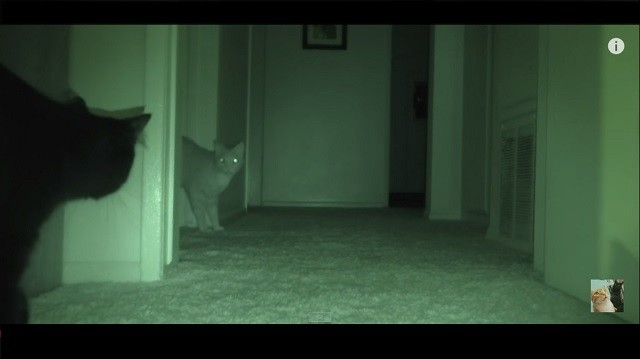house cat: (3, 98, 145, 288), (162, 131, 255, 229)
